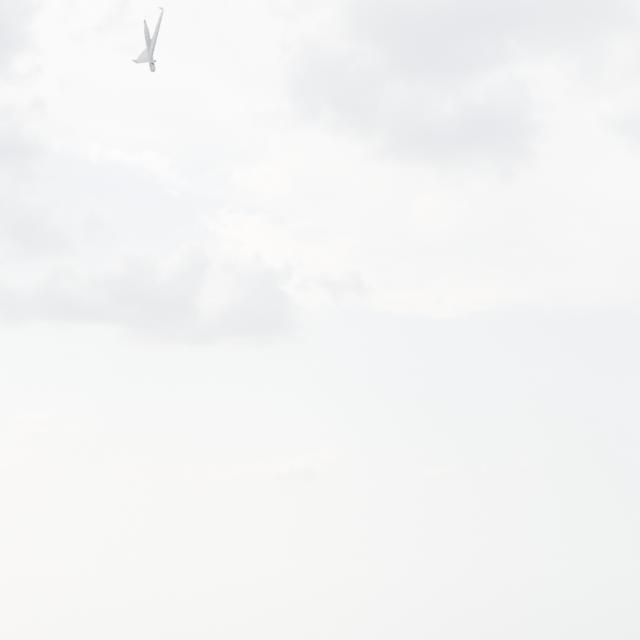Airaplan: (131, 7, 164, 73)
